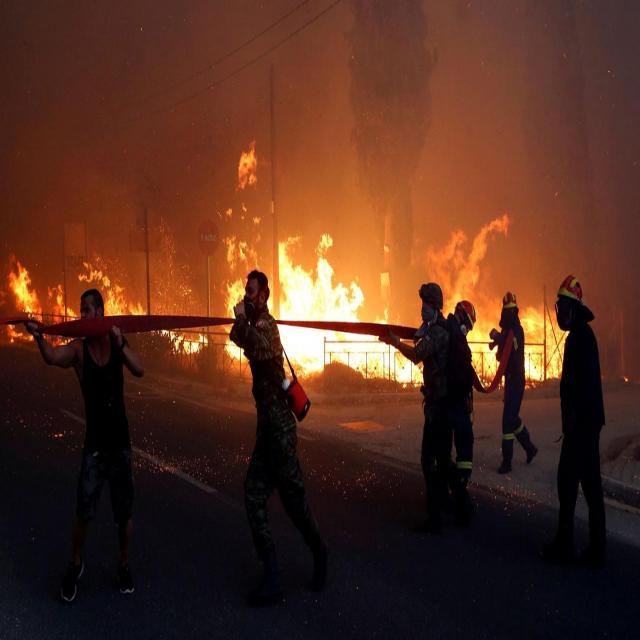fire: (1, 135, 513, 392)
